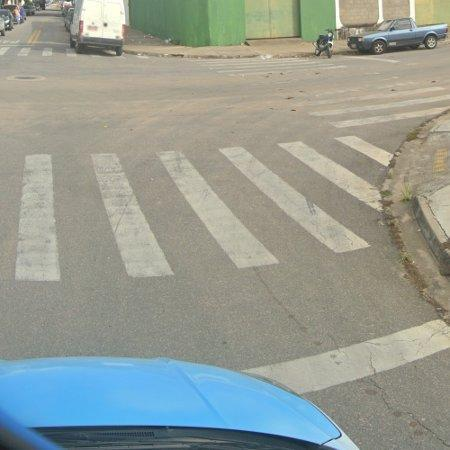crosswalks: (0, 132, 434, 284), (0, 45, 81, 62)
